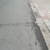zebra: (4, 1, 49, 49)
